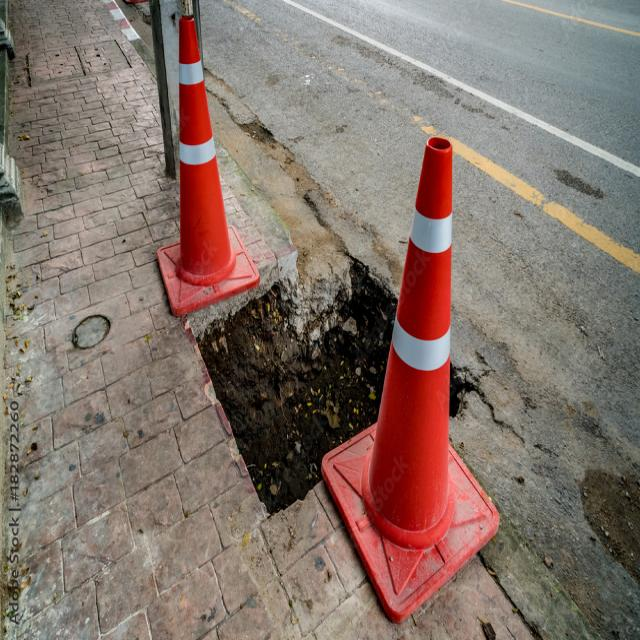Pothole: (170, 75, 640, 640)
